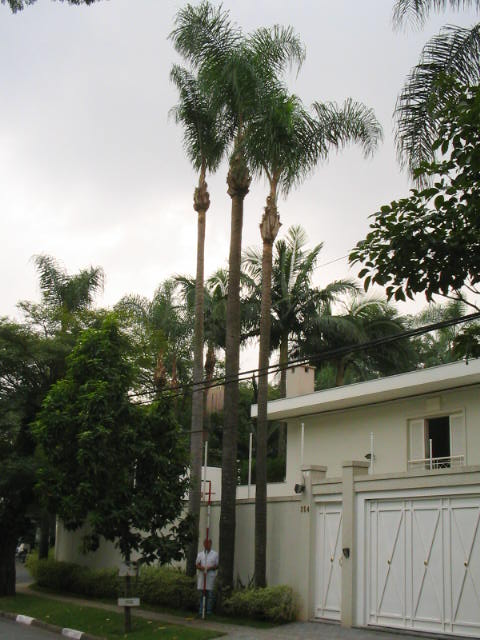crown: (176, 3, 308, 181), (250, 83, 383, 220), (159, 64, 223, 182)
stem: (213, 200, 245, 606), (250, 242, 282, 615), (178, 188, 202, 608)
stick: (195, 480, 216, 619)
tree: (173, 1, 309, 608), (246, 81, 386, 614), (153, 63, 223, 609)
